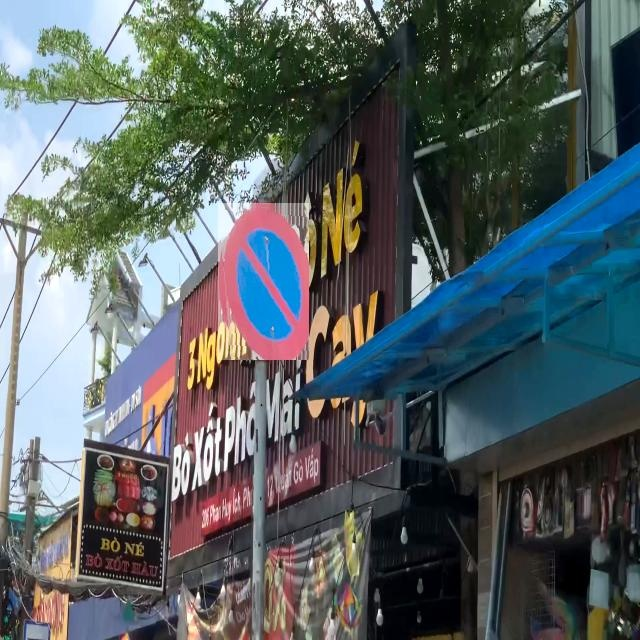bien_cam: (218, 203, 309, 360)
